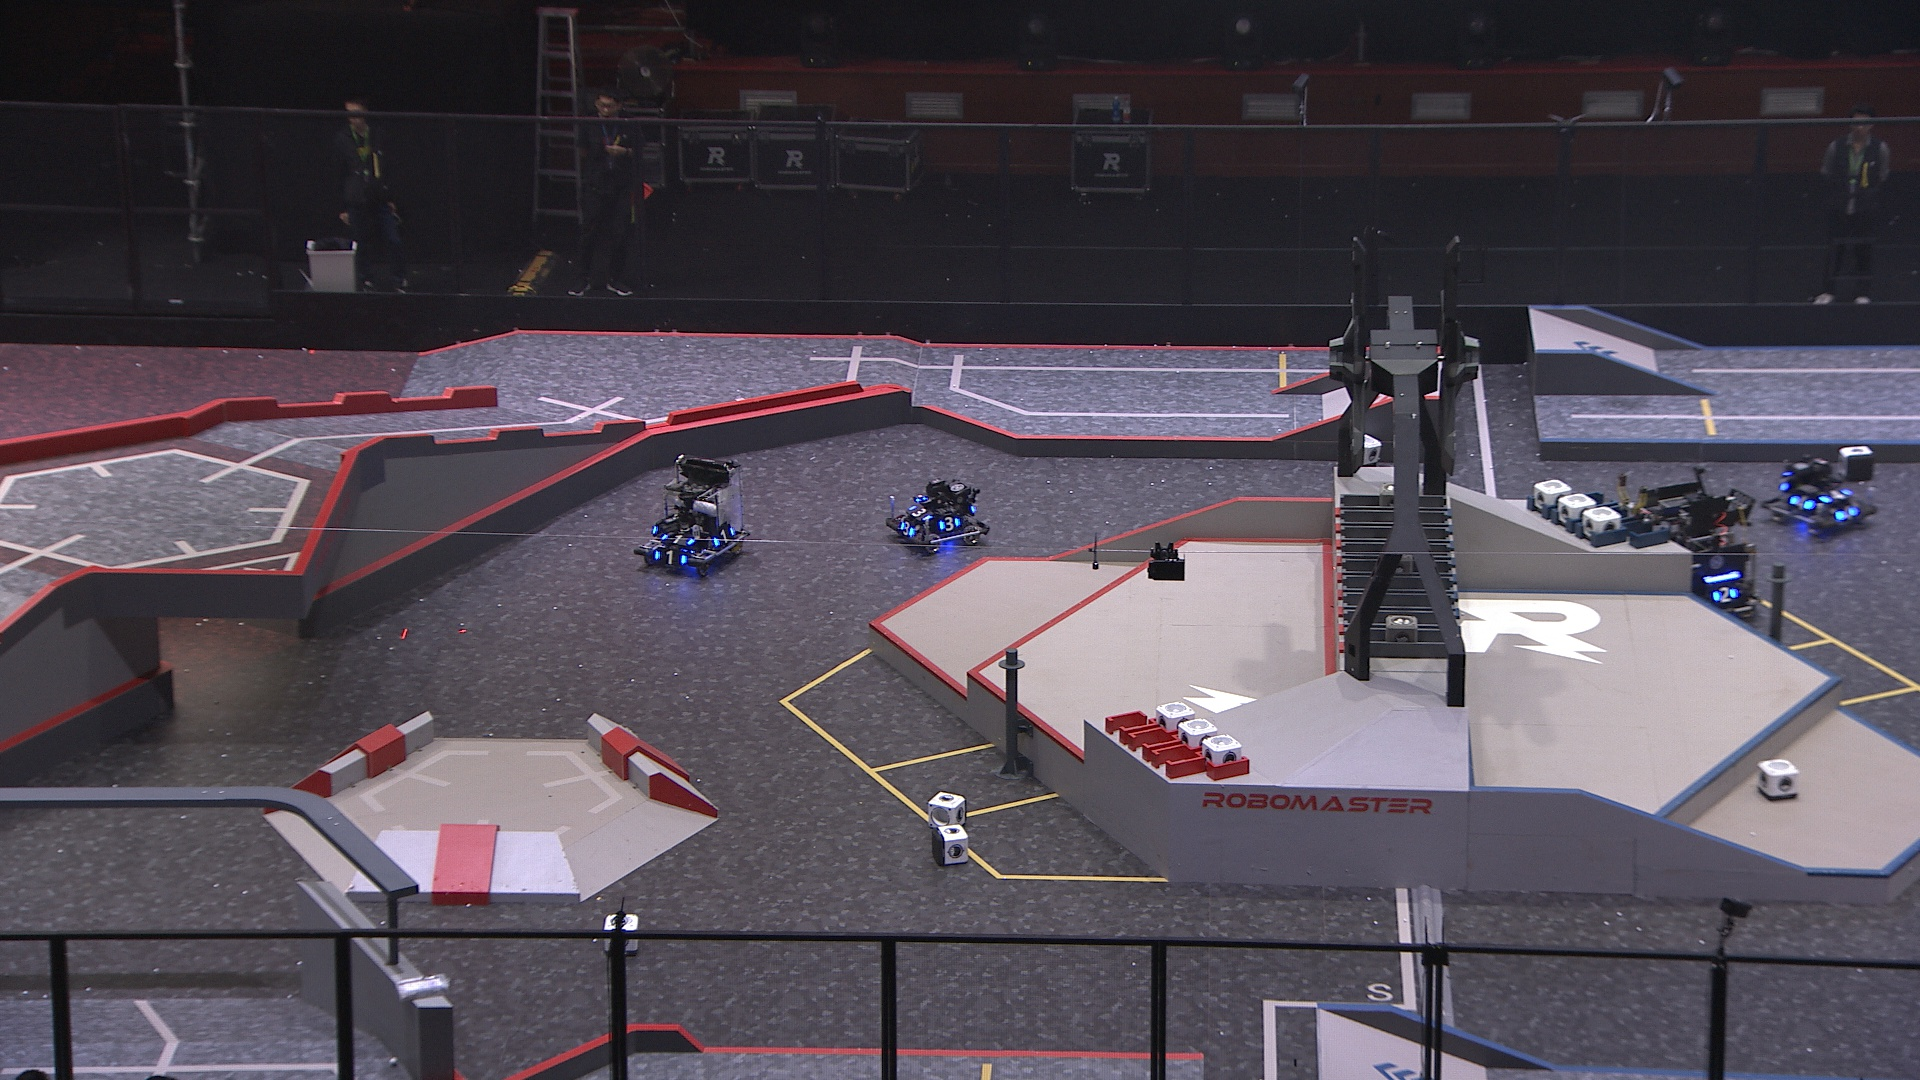armor: (1709, 583, 1743, 608), (659, 527, 698, 549), (709, 524, 738, 547), (1818, 485, 1854, 504), (935, 514, 965, 535), (655, 550, 690, 567), (1836, 504, 1865, 524), (906, 498, 932, 520), (1787, 493, 1815, 512), (897, 517, 916, 538)
car: (1623, 479, 1760, 618), (633, 454, 752, 578), (1760, 454, 1880, 541), (884, 475, 993, 553)
